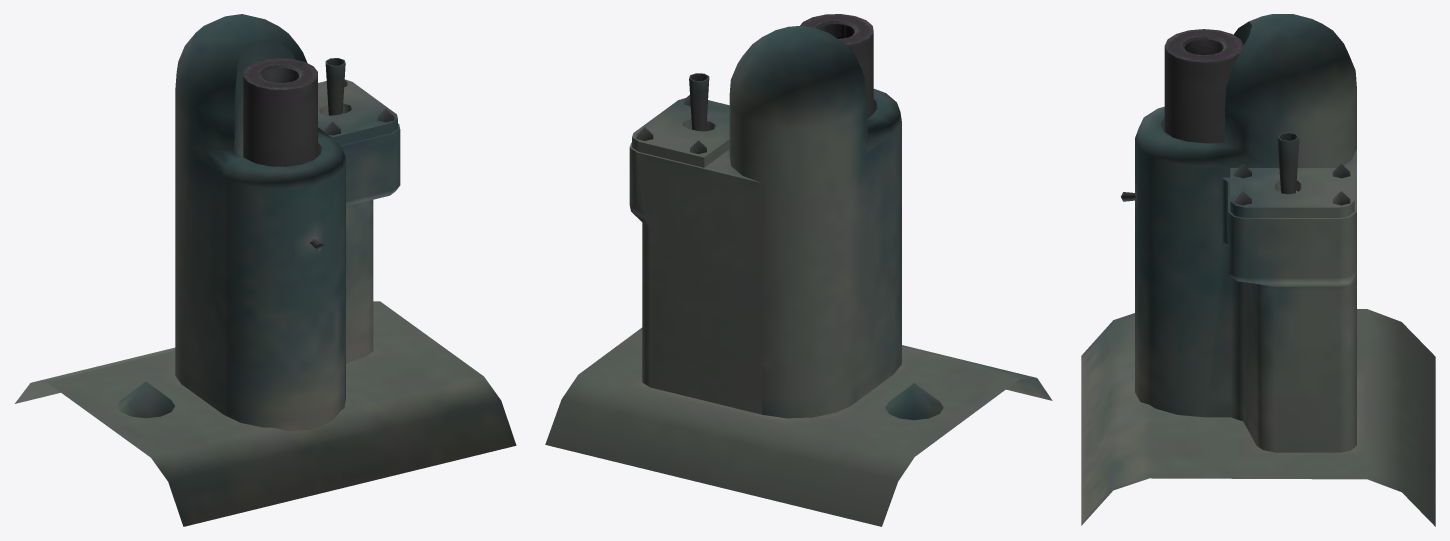
Rendered from Gun_01.glb.
The picture shows the model from 3 angles, left to right: view 1: azimuth 30°, elevation 25°; view 2: azimuth 150°, elevation 25°; view 3: azimuth 270°, elevation 25°; orthographic projection. The views are drawn at different scales.
Parts seen in each view (by area): view 1: set_0_group_0; view 2: set_0_group_0; view 3: set_0_group_0.
Boxes of the visible parts, x1,y1,x2,y2 form: set_0_group_0: (15,14,516,526); set_0_group_0: (545,14,1052,526); set_0_group_0: (1081,14,1435,526).
Size of the model in its own units: 0.379 by 0.4306 by 0.3331.
1 material, 1 textured.
